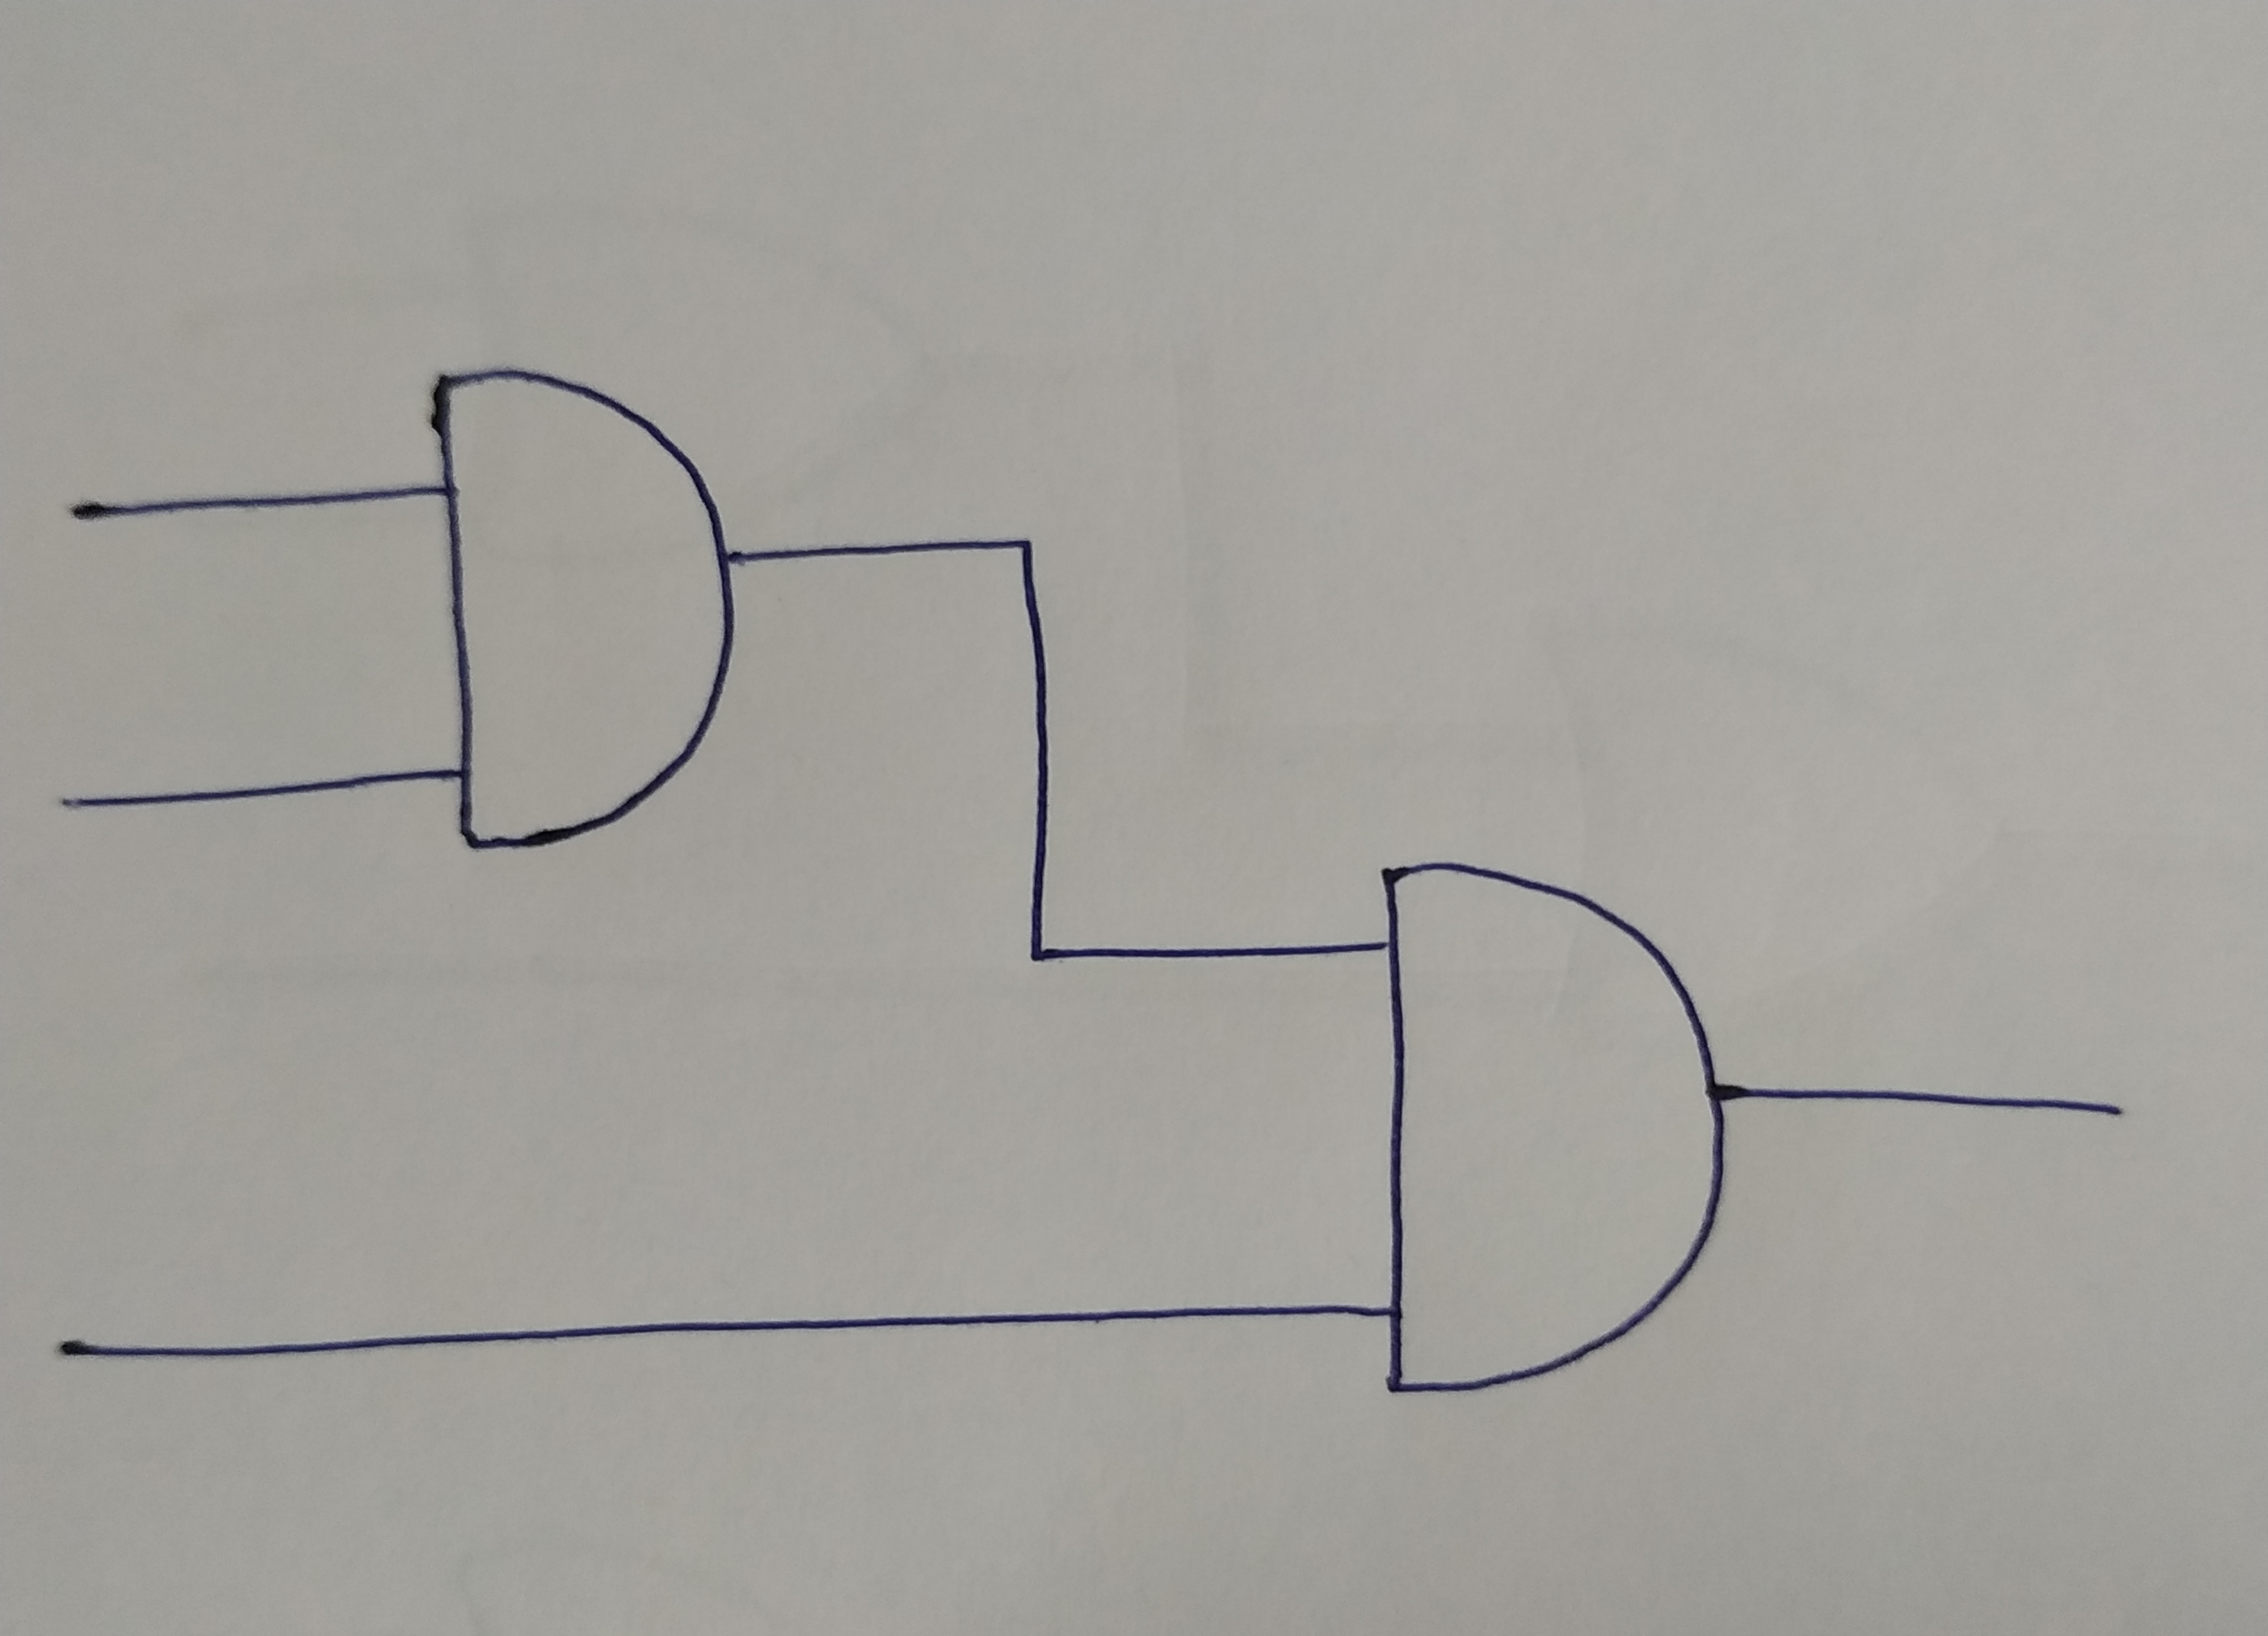and: (1384, 859, 1719, 1400), (430, 366, 736, 854)
